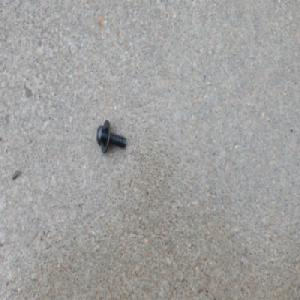BoltWasher: (96, 118, 127, 153)
